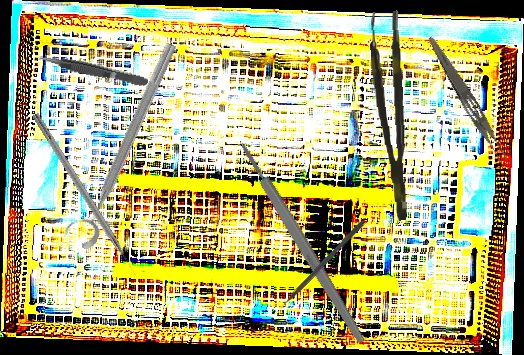Dressing Forceps: (421, 34, 515, 170)
Fixation Ring: (59, 34, 183, 253)
Hook Surgical: (30, 112, 142, 282)
Pusher: (271, 218, 366, 317)
Scalpel Handle: (236, 140, 369, 347)
Tissue Forceps: (368, 10, 410, 222), (36, 49, 150, 91)
